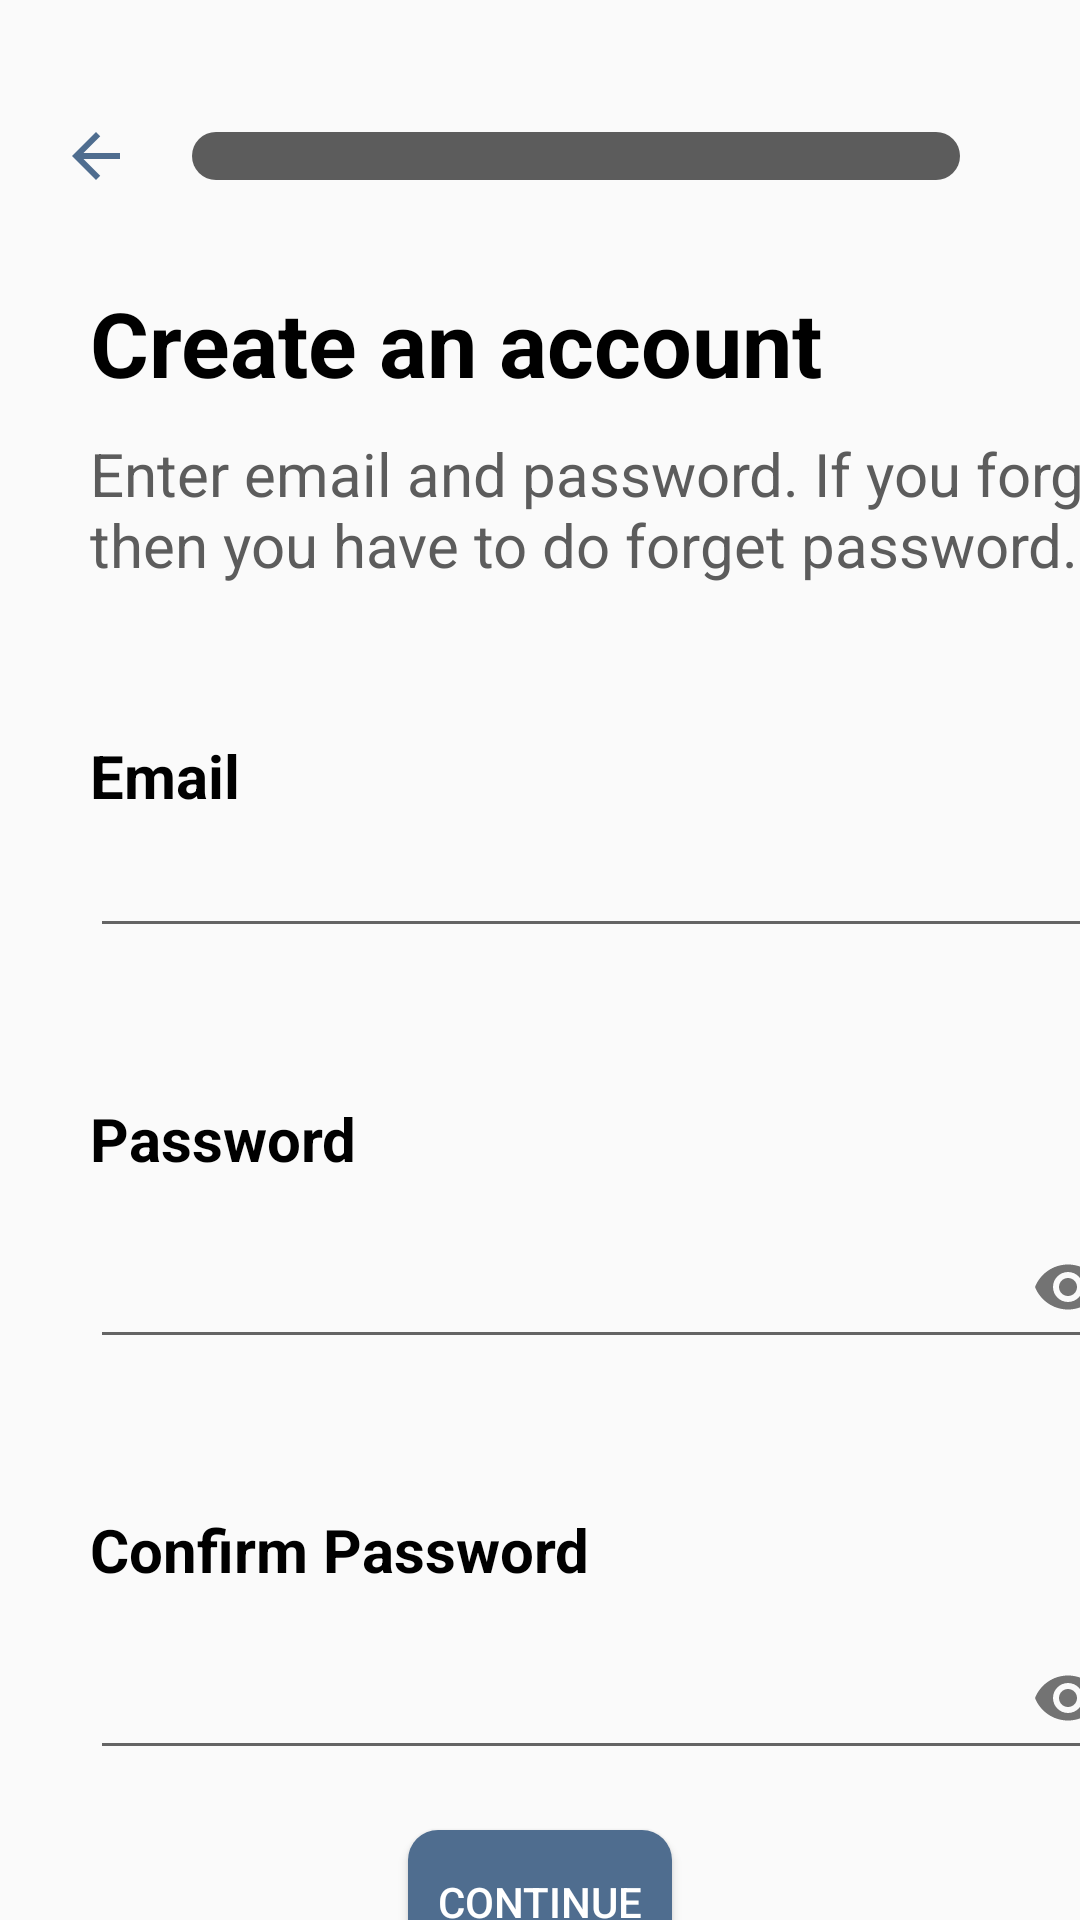

Where to tap for icons on this 1080px x 1920px app screen, as point (x, y):
arrow back: point (96, 156)
